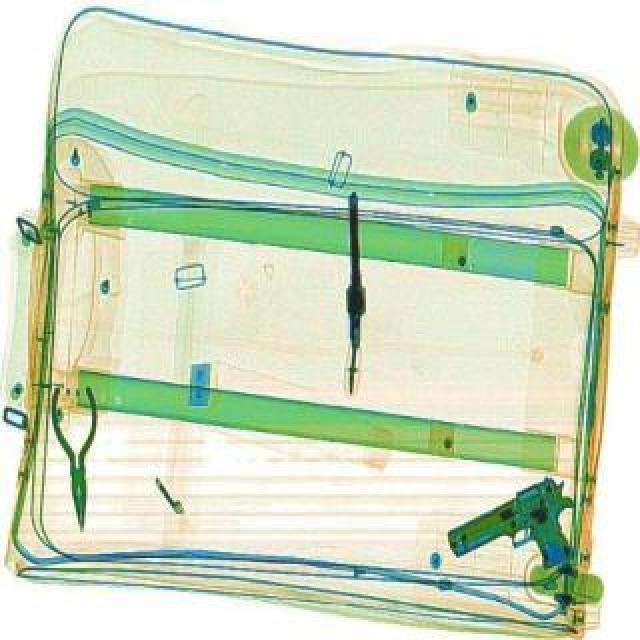gun: (440, 472, 600, 602)
wrench: (48, 386, 108, 530)
